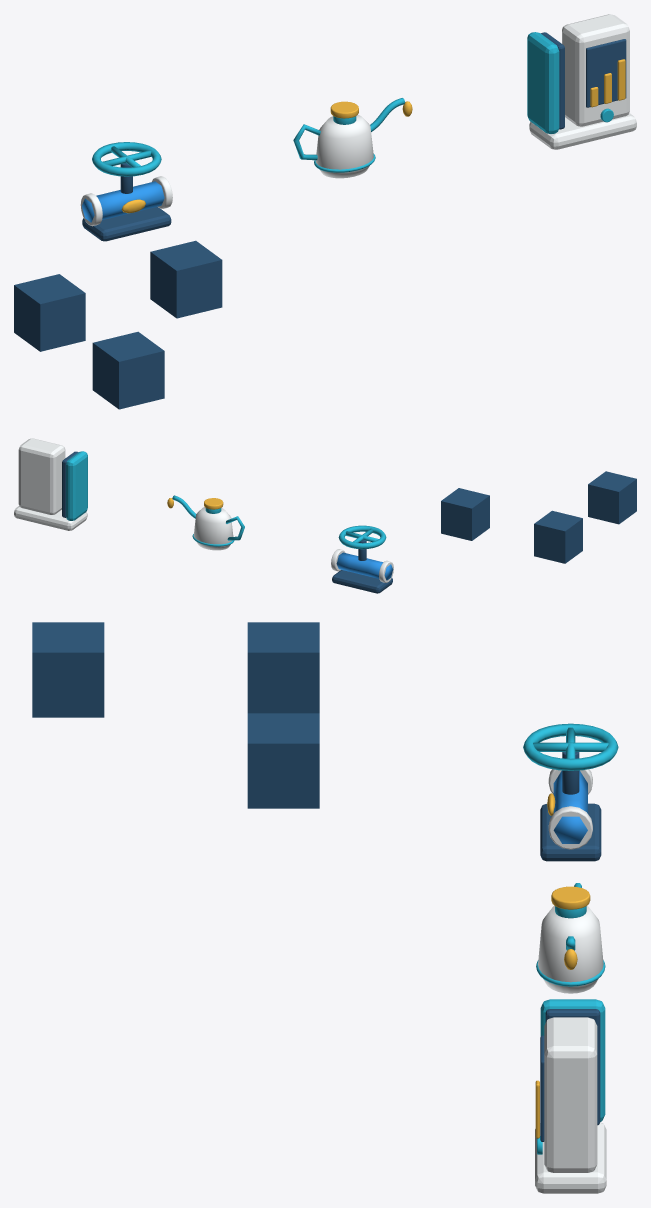
The model's file is catalog-010.glb.
3 views of the same model, one above another, from view 1: azimuth 30°, elevation 25°; view 2: azimuth 150°, elevation 25°; view 3: azimuth 270°, elevation 25° (orthographic). The views are drawn at different scales.
Visible parts, largest first — view 1: wall_meter__Fixed_pearl_05, catalog_010__calibration_right, catalog_010__calibration_front, catalog_010__calibration_origin, wall_meter__Bumper_teal_06, tuning_oil__Fixed_pearl_03, wall_meter__Fixed_dark_01, tide_valve__Fixed_dark_02, tide_valve__ValveWheel_teal_05, tide_valve__Fixed_blue_01, tuning_oil__Fixed_teal_04, tide_valve__Fixed_pearl_04; view 2: wall_meter__Fixed_pearl_05, catalog_010__calibration_front, catalog_010__calibration_right, catalog_010__calibration_origin, wall_meter__Bumper_teal_06, tuning_oil__Fixed_pearl_03, tide_valve__Fixed_dark_02, tide_valve__Fixed_blue_01, tide_valve__ValveWheel_teal_05, tuning_oil__Fixed_teal_04, tide_valve__Fixed_pearl_04, wall_meter__Fixed_dark_01; view 3: wall_meter__Fixed_pearl_05, catalog_010__calibration_right, catalog_010__calibration_front, catalog_010__calibration_origin, tuning_oil__Fixed_pearl_03, tide_valve__ValveWheel_teal_05, tide_valve__Fixed_dark_02, tide_valve__Fixed_blue_01, wall_meter__Fixed_dark_01, wall_meter__Bumper_teal_06, tide_valve__Fixed_pearl_04, tuning_oil__Fixed_gold_02.
Part boxes in pixels (x1,y1,x2,y2): wall_meter__Fixed_pearl_05: (529, 14, 636, 149); catalog_010__calibration_right: (150, 240, 222, 318); catalog_010__calibration_front: (92, 331, 164, 409); catalog_010__calibration_origin: (14, 274, 85, 351); wall_meter__Bumper_teal_06: (527, 32, 559, 133); tuning_oil__Fixed_pearl_03: (315, 114, 373, 178); wall_meter__Fixed_dark_01: (541, 32, 626, 129); tide_valve__Fixed_dark_02: (82, 163, 171, 241); tide_valve__ValveWheel_teal_05: (92, 142, 161, 176); tide_valve__Fixed_blue_01: (82, 181, 164, 222); tuning_oil__Fixed_teal_04: (293, 116, 375, 172); tide_valve__Fixed_pearl_04: (80, 176, 172, 226); wall_meter__Fixed_pearl_05: (14, 438, 87, 530); catalog_010__calibration_front: (588, 471, 636, 524); catalog_010__calibration_right: (441, 488, 489, 540); catalog_010__calibration_origin: (534, 510, 582, 563); wall_meter__Bumper_teal_06: (66, 451, 87, 520); tuning_oil__Fixed_pearl_03: (193, 507, 233, 550); tide_valve__Fixed_dark_02: (332, 540, 392, 593); tide_valve__Fixed_blue_01: (336, 552, 393, 580); tide_valve__ValveWheel_teal_05: (338, 525, 386, 549); tuning_oil__Fixed_teal_04: (192, 508, 244, 546); tide_valve__Fixed_pearl_04: (331, 549, 393, 582); wall_meter__Fixed_dark_01: (62, 451, 78, 517); wall_meter__Fixed_pearl_05: (535, 1017, 606, 1193); catalog_010__calibration_right: (247, 713, 319, 808); catalog_010__calibration_front: (32, 622, 104, 717); catalog_010__calibration_origin: (247, 622, 319, 713); tuning_oil__Fixed_pearl_03: (538, 905, 603, 993); tide_valve__ValveWheel_teal_05: (523, 723, 618, 770); tide_valve__Fixed_dark_02: (540, 752, 601, 861); tide_valve__Fixed_blue_01: (553, 770, 587, 843); wall_meter__Fixed_dark_01: (540, 1009, 600, 1141); wall_meter__Bumper_teal_06: (540, 999, 605, 1121); tide_valve__Fixed_pearl_04: (548, 769, 592, 849); tuning_oil__Fixed_gold_02: (551, 886, 590, 909).
Bounding box in the file's own units: 4.33 × 0.623 × 2.29.
